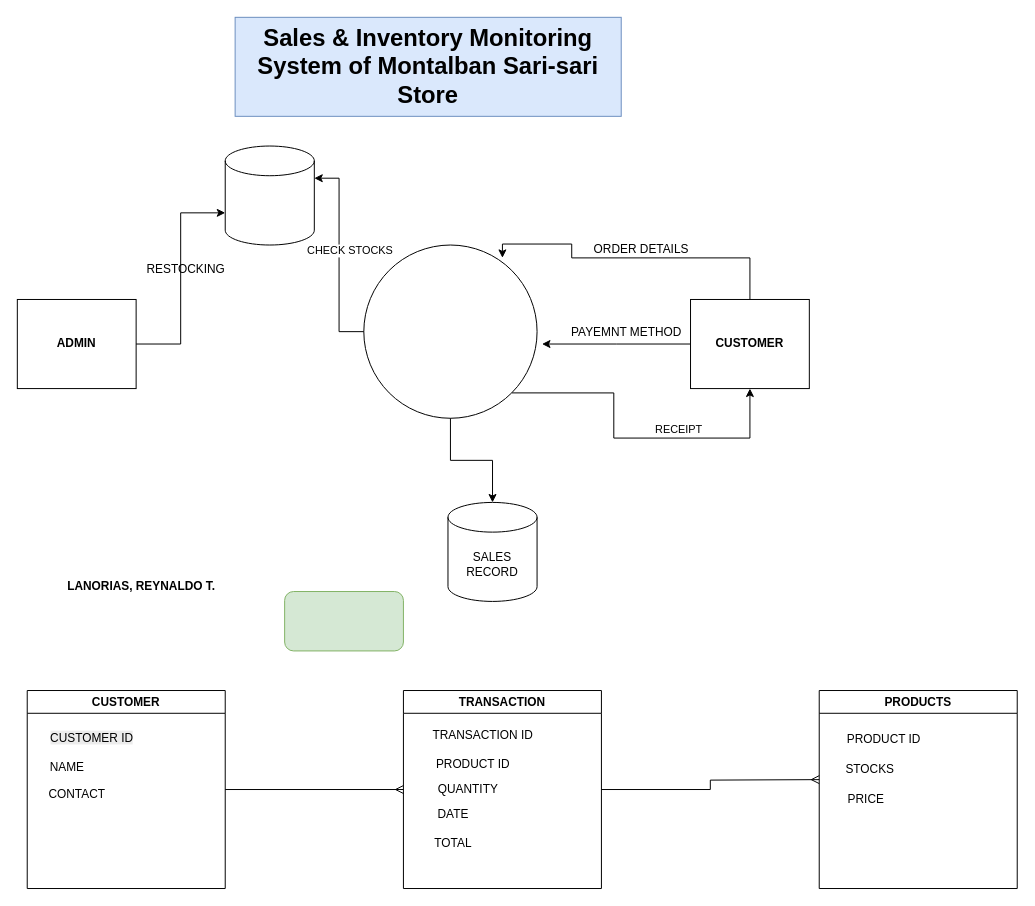
The diagram is 1035 pixels wide and 906 high, and some of its shapes have lost their labels. Here are the shapes that lost their labels. From the top down, the centre of each, then its label:
(269,195): INVENTORY DATA
(450,331): SALES AND INVENTORY SYSTEM
(343,621): ERD
